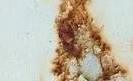Corrosion: (49, 1, 129, 81)
